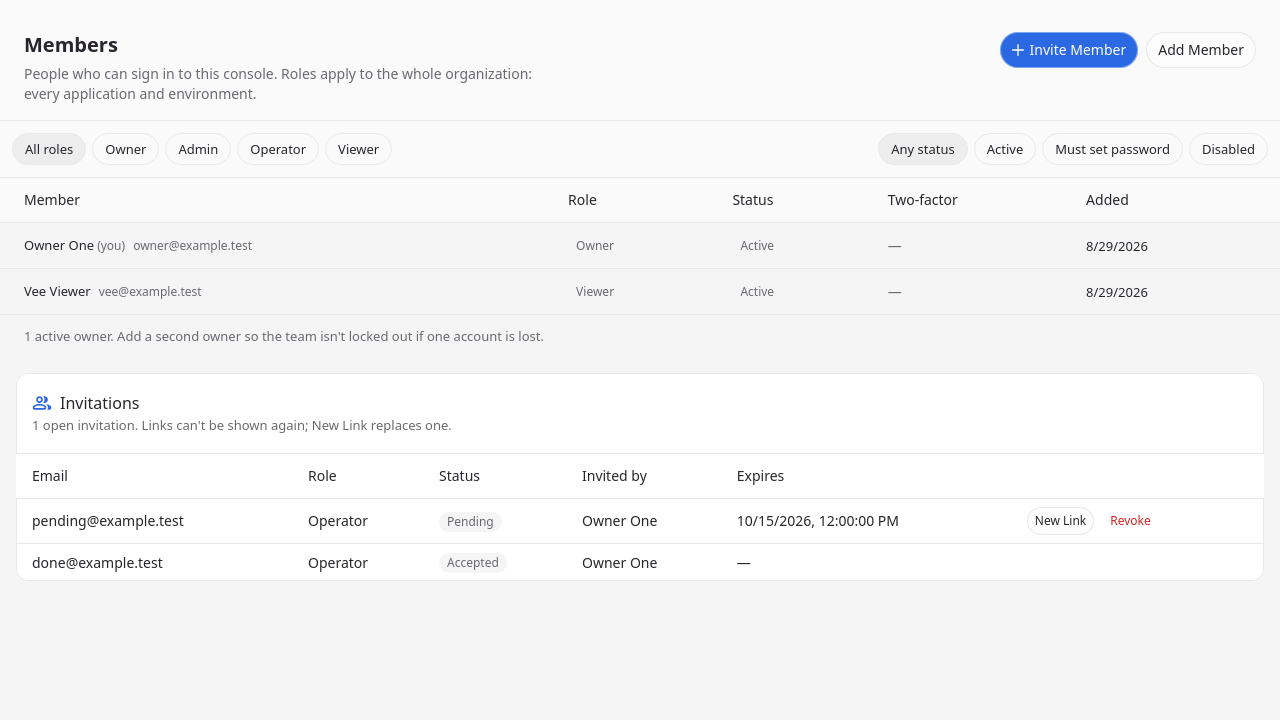
it: Invitations › replaces a link and revokes an open invitation
Expected: the text "pending@example.test" is shown, [16,498,296,544]
Expected: the text "done@example.test" is shown, [16,544,296,581]
Click the button "New Link": click(1060, 521) [1027,507,1094,535]
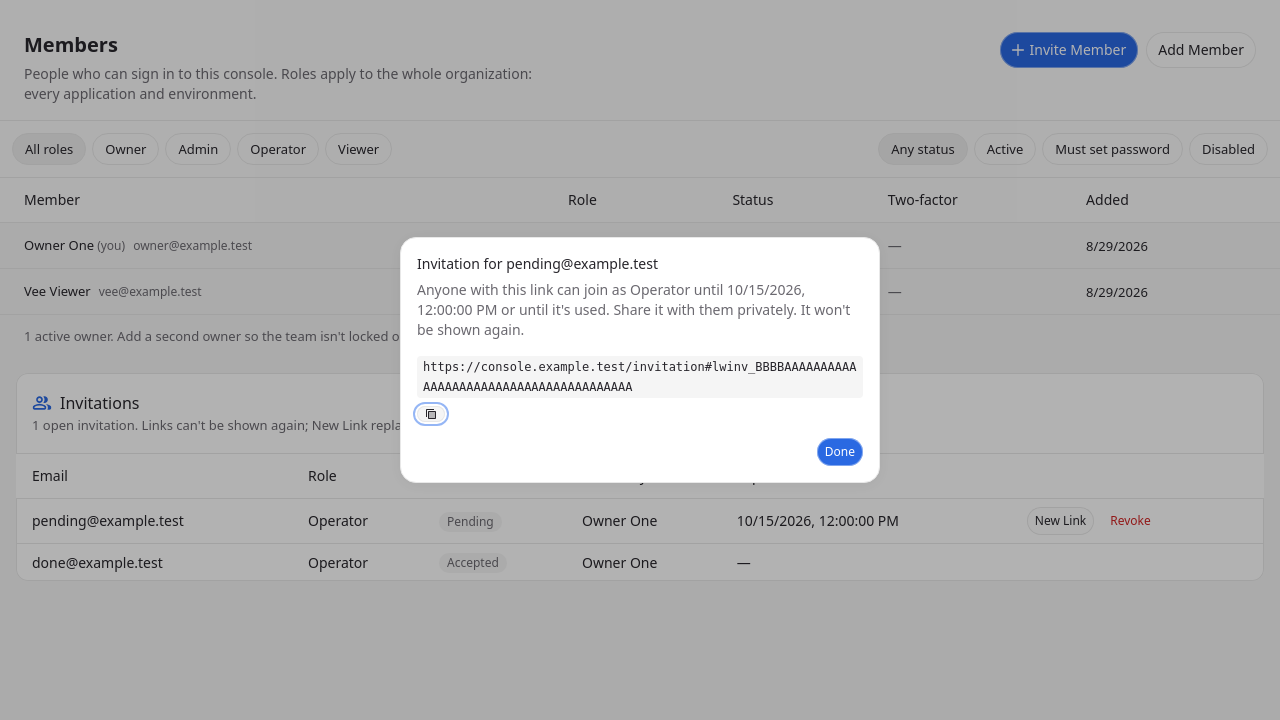
Expected: the dialog "Invitation for pending@example.test" is shown, [400,237,880,483]
Click the button "Done": click(840, 452) [817,438,863,466]
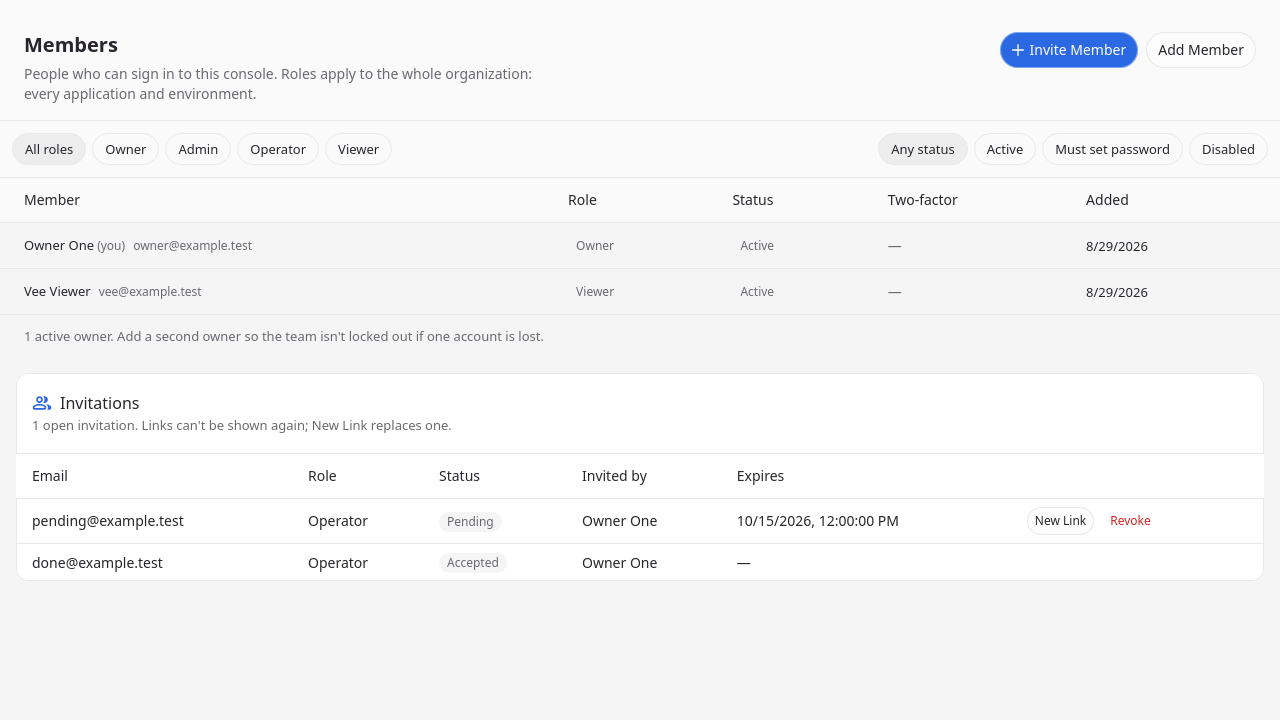
Click the button "Revoke": click(1131, 521) [1102,507,1159,535]
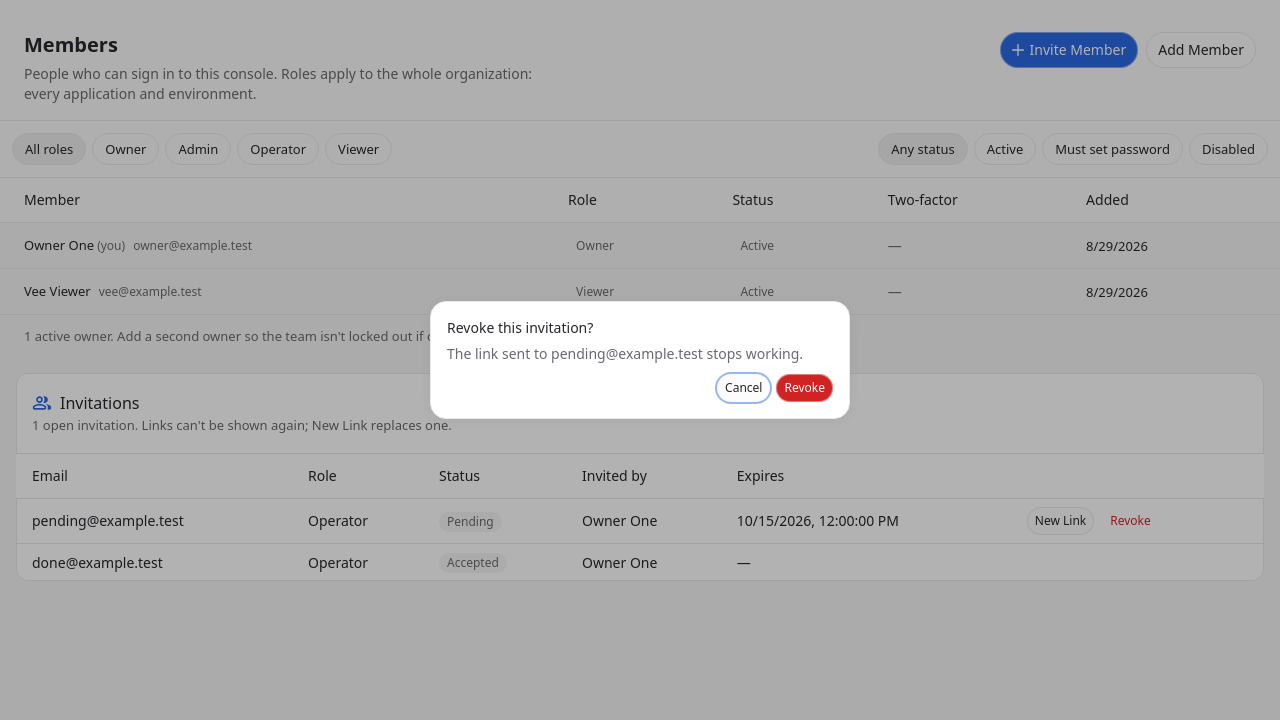
Click the button "Revoke": click(805, 388) [776,374,833,402]
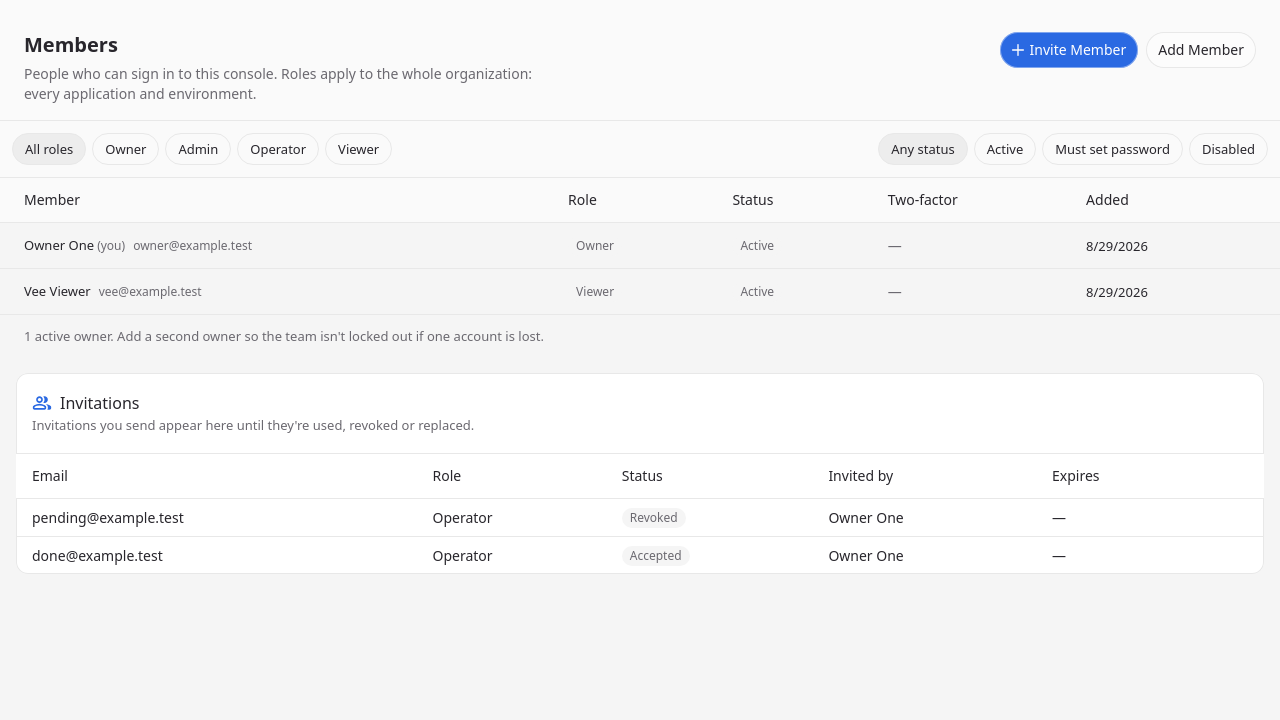
Expected: the text "Revoked" is shown, [630,510,678,526]
